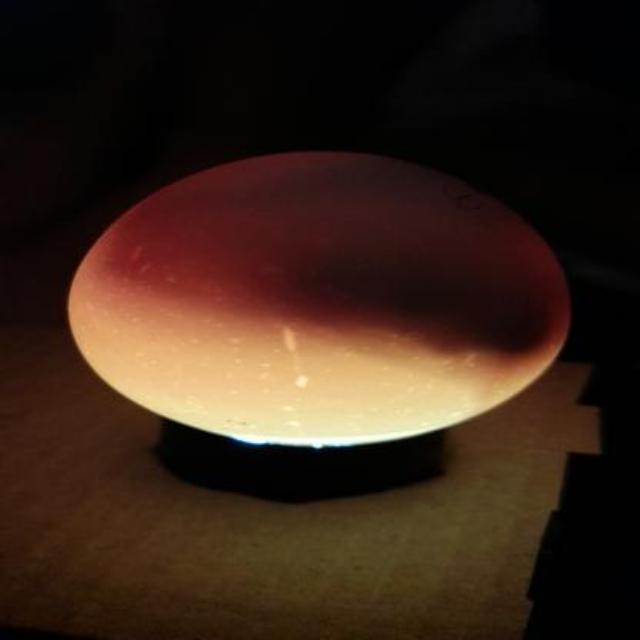Infertile: (64, 143, 578, 460)
